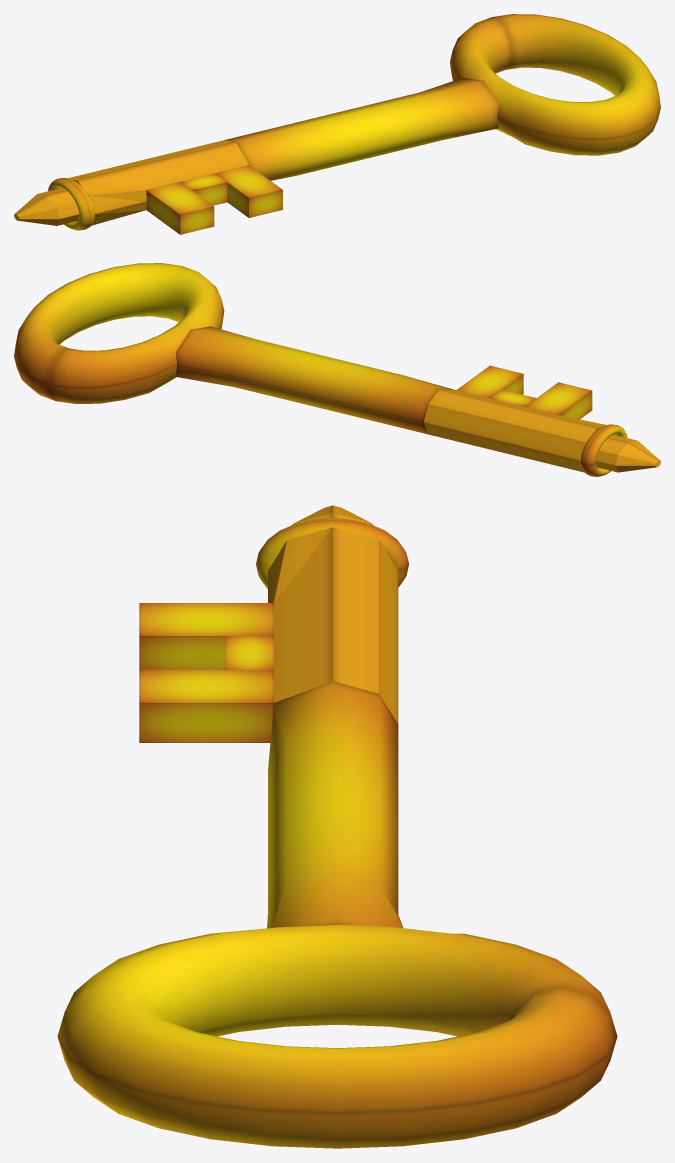
File: key1.fbx
3 views of the same model, one above another, from view 1: azimuth 30°, elevation 25°; view 2: azimuth 150°, elevation 25°; view 3: azimuth 270°, elevation 25° (orthographic). The views are drawn at different scales.
Visible parts, largest first — view 1: Box003; view 2: Box003; view 3: Box003.
Part boxes in pixels (bbox=[...]): Box003: bbox=[14, 14, 660, 234]; Box003: bbox=[14, 263, 660, 476]; Box003: bbox=[57, 505, 617, 1148].
Bounding box in the file's own units: 88.02 × 6.73 × 34.61.
